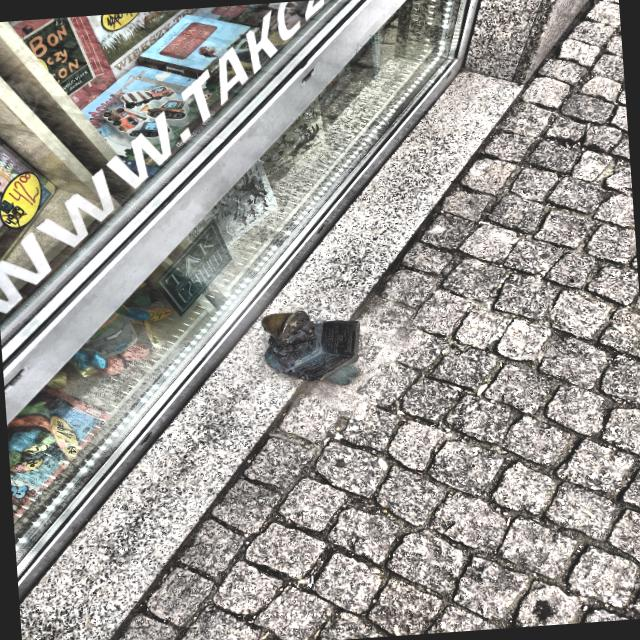Ksiegarka: (262, 310, 359, 384)
